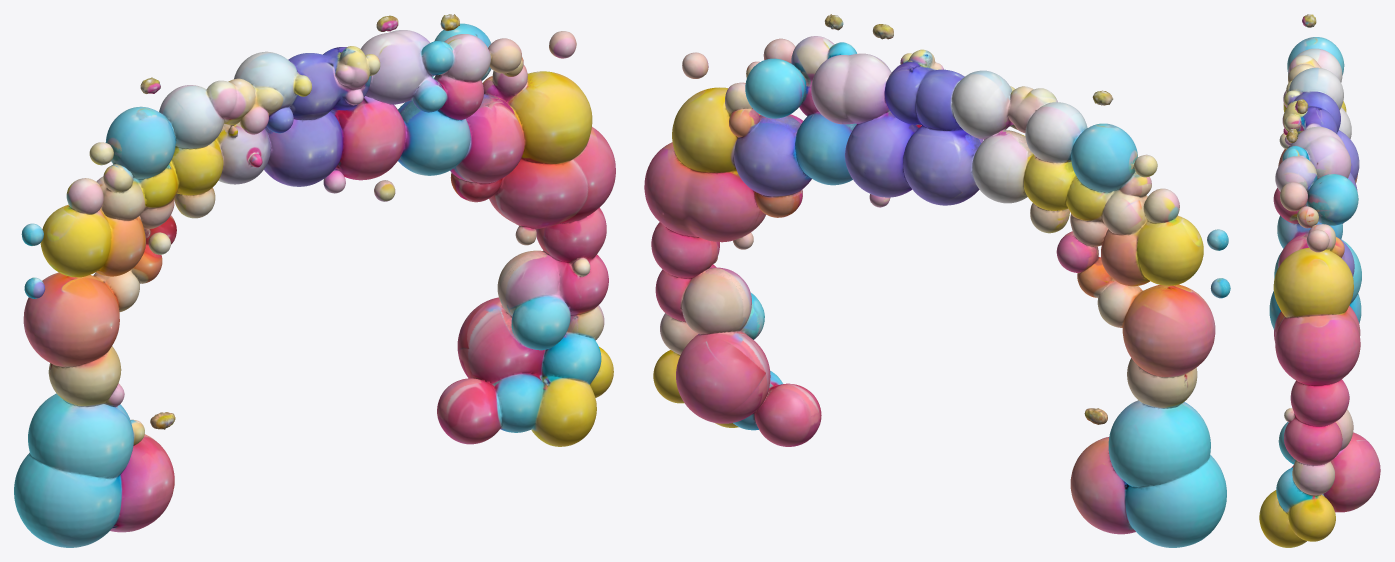
The model's file is celebration_arch.glb.
The picture shows the model from 3 angles, left to right: view 1: azimuth 30°, elevation 25°; view 2: azimuth 150°, elevation 25°; view 3: azimuth 270°, elevation 25°; orthographic projection. The views are drawn at different scales.
Visible parts, largest first — view 1: input; view 2: input; view 3: input.
Boxes of the visible parts, bbox=[...] form: input: bbox=[14, 14, 615, 547]; input: bbox=[644, 14, 1230, 547]; input: bbox=[1259, 14, 1380, 547].
Size of the model in its own units: 2 by 1.49 by 0.4322.
Materials: 1 (1 with a texture image).
